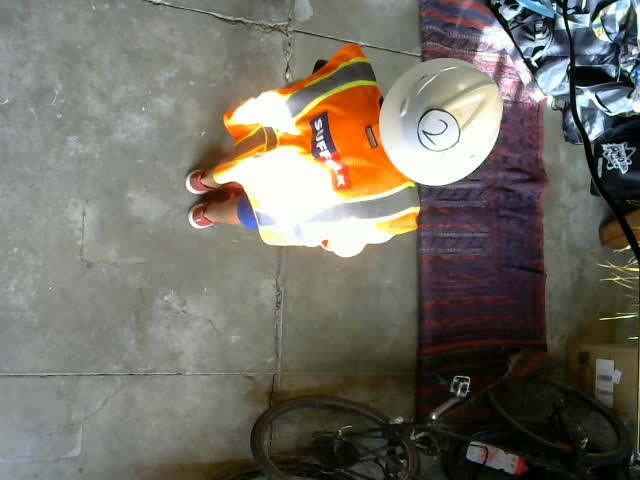two: (417, 108, 460, 152)
